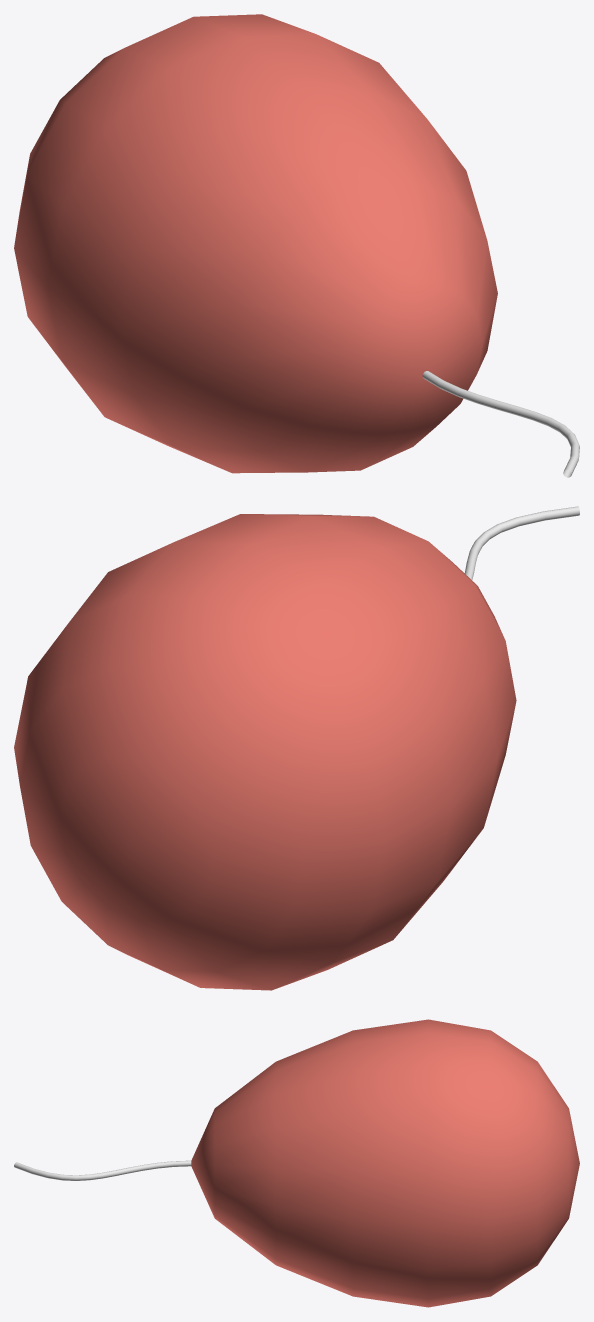
Rendered from Balloon.fbx.
The picture shows the model from 3 angles, top to bottom: view 1: azimuth 30°, elevation 25°; view 2: azimuth 150°, elevation 25°; view 3: azimuth 270°, elevation 25°; orthographic projection. The views are drawn at different scales.
Parts seen in each view (by area): view 1: Balloon; view 2: Balloon; view 3: Balloon.
Part boxes in pixels (x1,y1,x2,y2): Balloon: (14,14,579,477); Balloon: (14,506,579,990); Balloon: (14,1019,579,1307).
Bounding box in the file's own units: 200 × 200 × 393.
